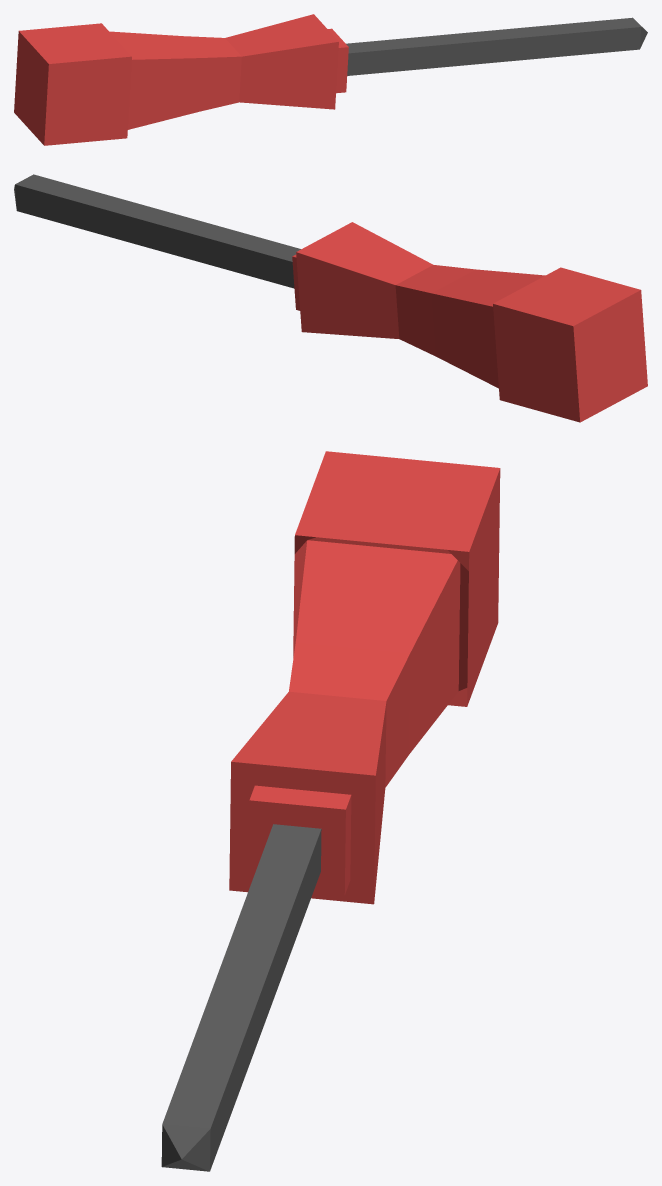
The model's file is Screwdriver.fbx.
The picture shows the model from 3 angles, top to bottom: view 1: azimuth 30°, elevation 25°; view 2: azimuth 150°, elevation 25°; view 3: azimuth 270°, elevation 25°; orthographic projection. The views are drawn at different scales.
Visible parts, largest first — view 1: Screwdriver; view 2: Screwdriver; view 3: Screwdriver.
Part boxes in pixels (<box>): Screwdriver: <box>14,14,647,145</box>; Screwdriver: <box>14,174,647,422</box>; Screwdriver: <box>161,451,500,1171</box>.
Size of the model in its own units: 81.41 by 12.77 by 21.01.
